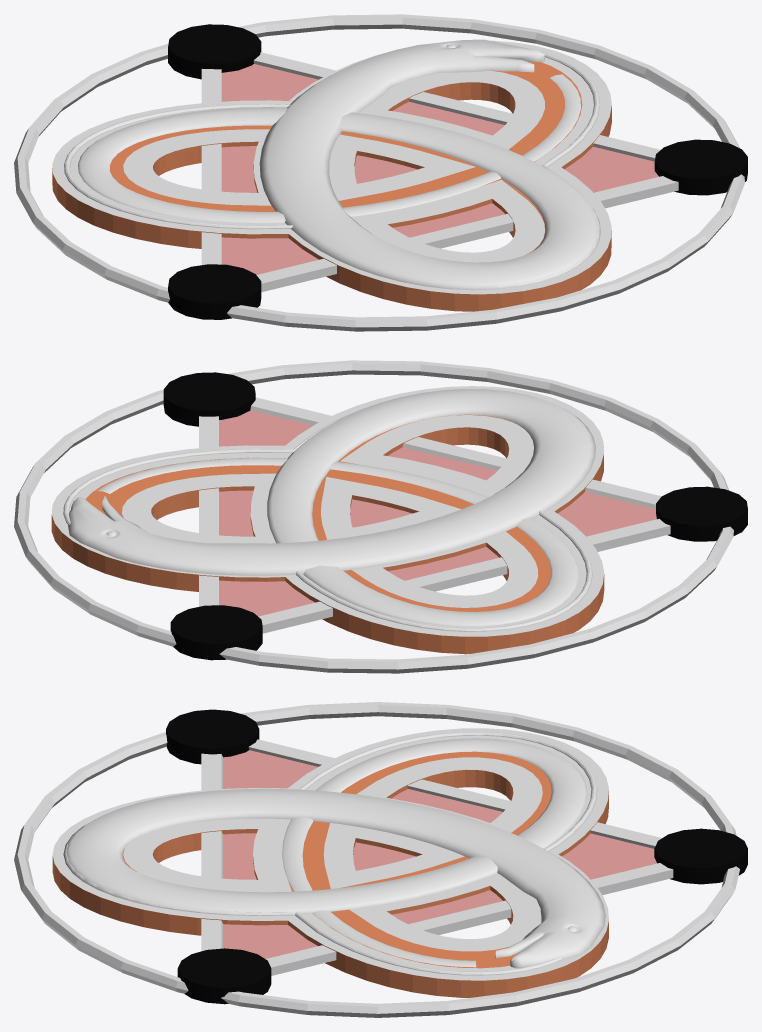
The model's file is Trillium_Lounge.fbx.
3 views of the same model, one above another, from view 1: azimuth 30°, elevation 25°; view 2: azimuth 150°, elevation 25°; view 3: azimuth 270°, elevation 25° (orthographic).
Parts seen in each view (by area): view 1: Trillium, BézierCurve.002, Circle.008, Circle.005, Cylinder, Trillium.001; view 2: Trillium, BézierCurve.002, Circle.008, Circle.005, Cylinder, Trillium.001; view 3: Trillium, BézierCurve.002, Circle.008, Circle.005, Cylinder, Trillium.001.
Part boxes in pixels (box(x1,y1,x2,y2)): Trillium: box(52, 40, 611, 311); BézierCurve.002: box(78, 39, 600, 290); Circle.008: box(201, 52, 678, 292); Circle.005: box(14, 14, 744, 331); Cylinder: box(168, 24, 747, 319); Trillium.001: box(64, 52, 599, 287); Trillium: box(51, 386, 604, 654); BézierCurve.002: box(68, 389, 595, 626); Circle.008: box(199, 397, 670, 633); Circle.005: box(14, 360, 733, 673); Cylinder: box(163, 372, 747, 660); Trillium.001: box(63, 408, 592, 631); Trillium: box(52, 728, 608, 997); BézierCurve.002: box(63, 738, 605, 968); Circle.008: box(201, 739, 673, 975); Circle.005: box(14, 702, 739, 1017); Cylinder: box(166, 709, 747, 1004); Trillium.001: box(64, 732, 597, 975).
Size of the model in its own units: 204 by 8.3 by 206.
